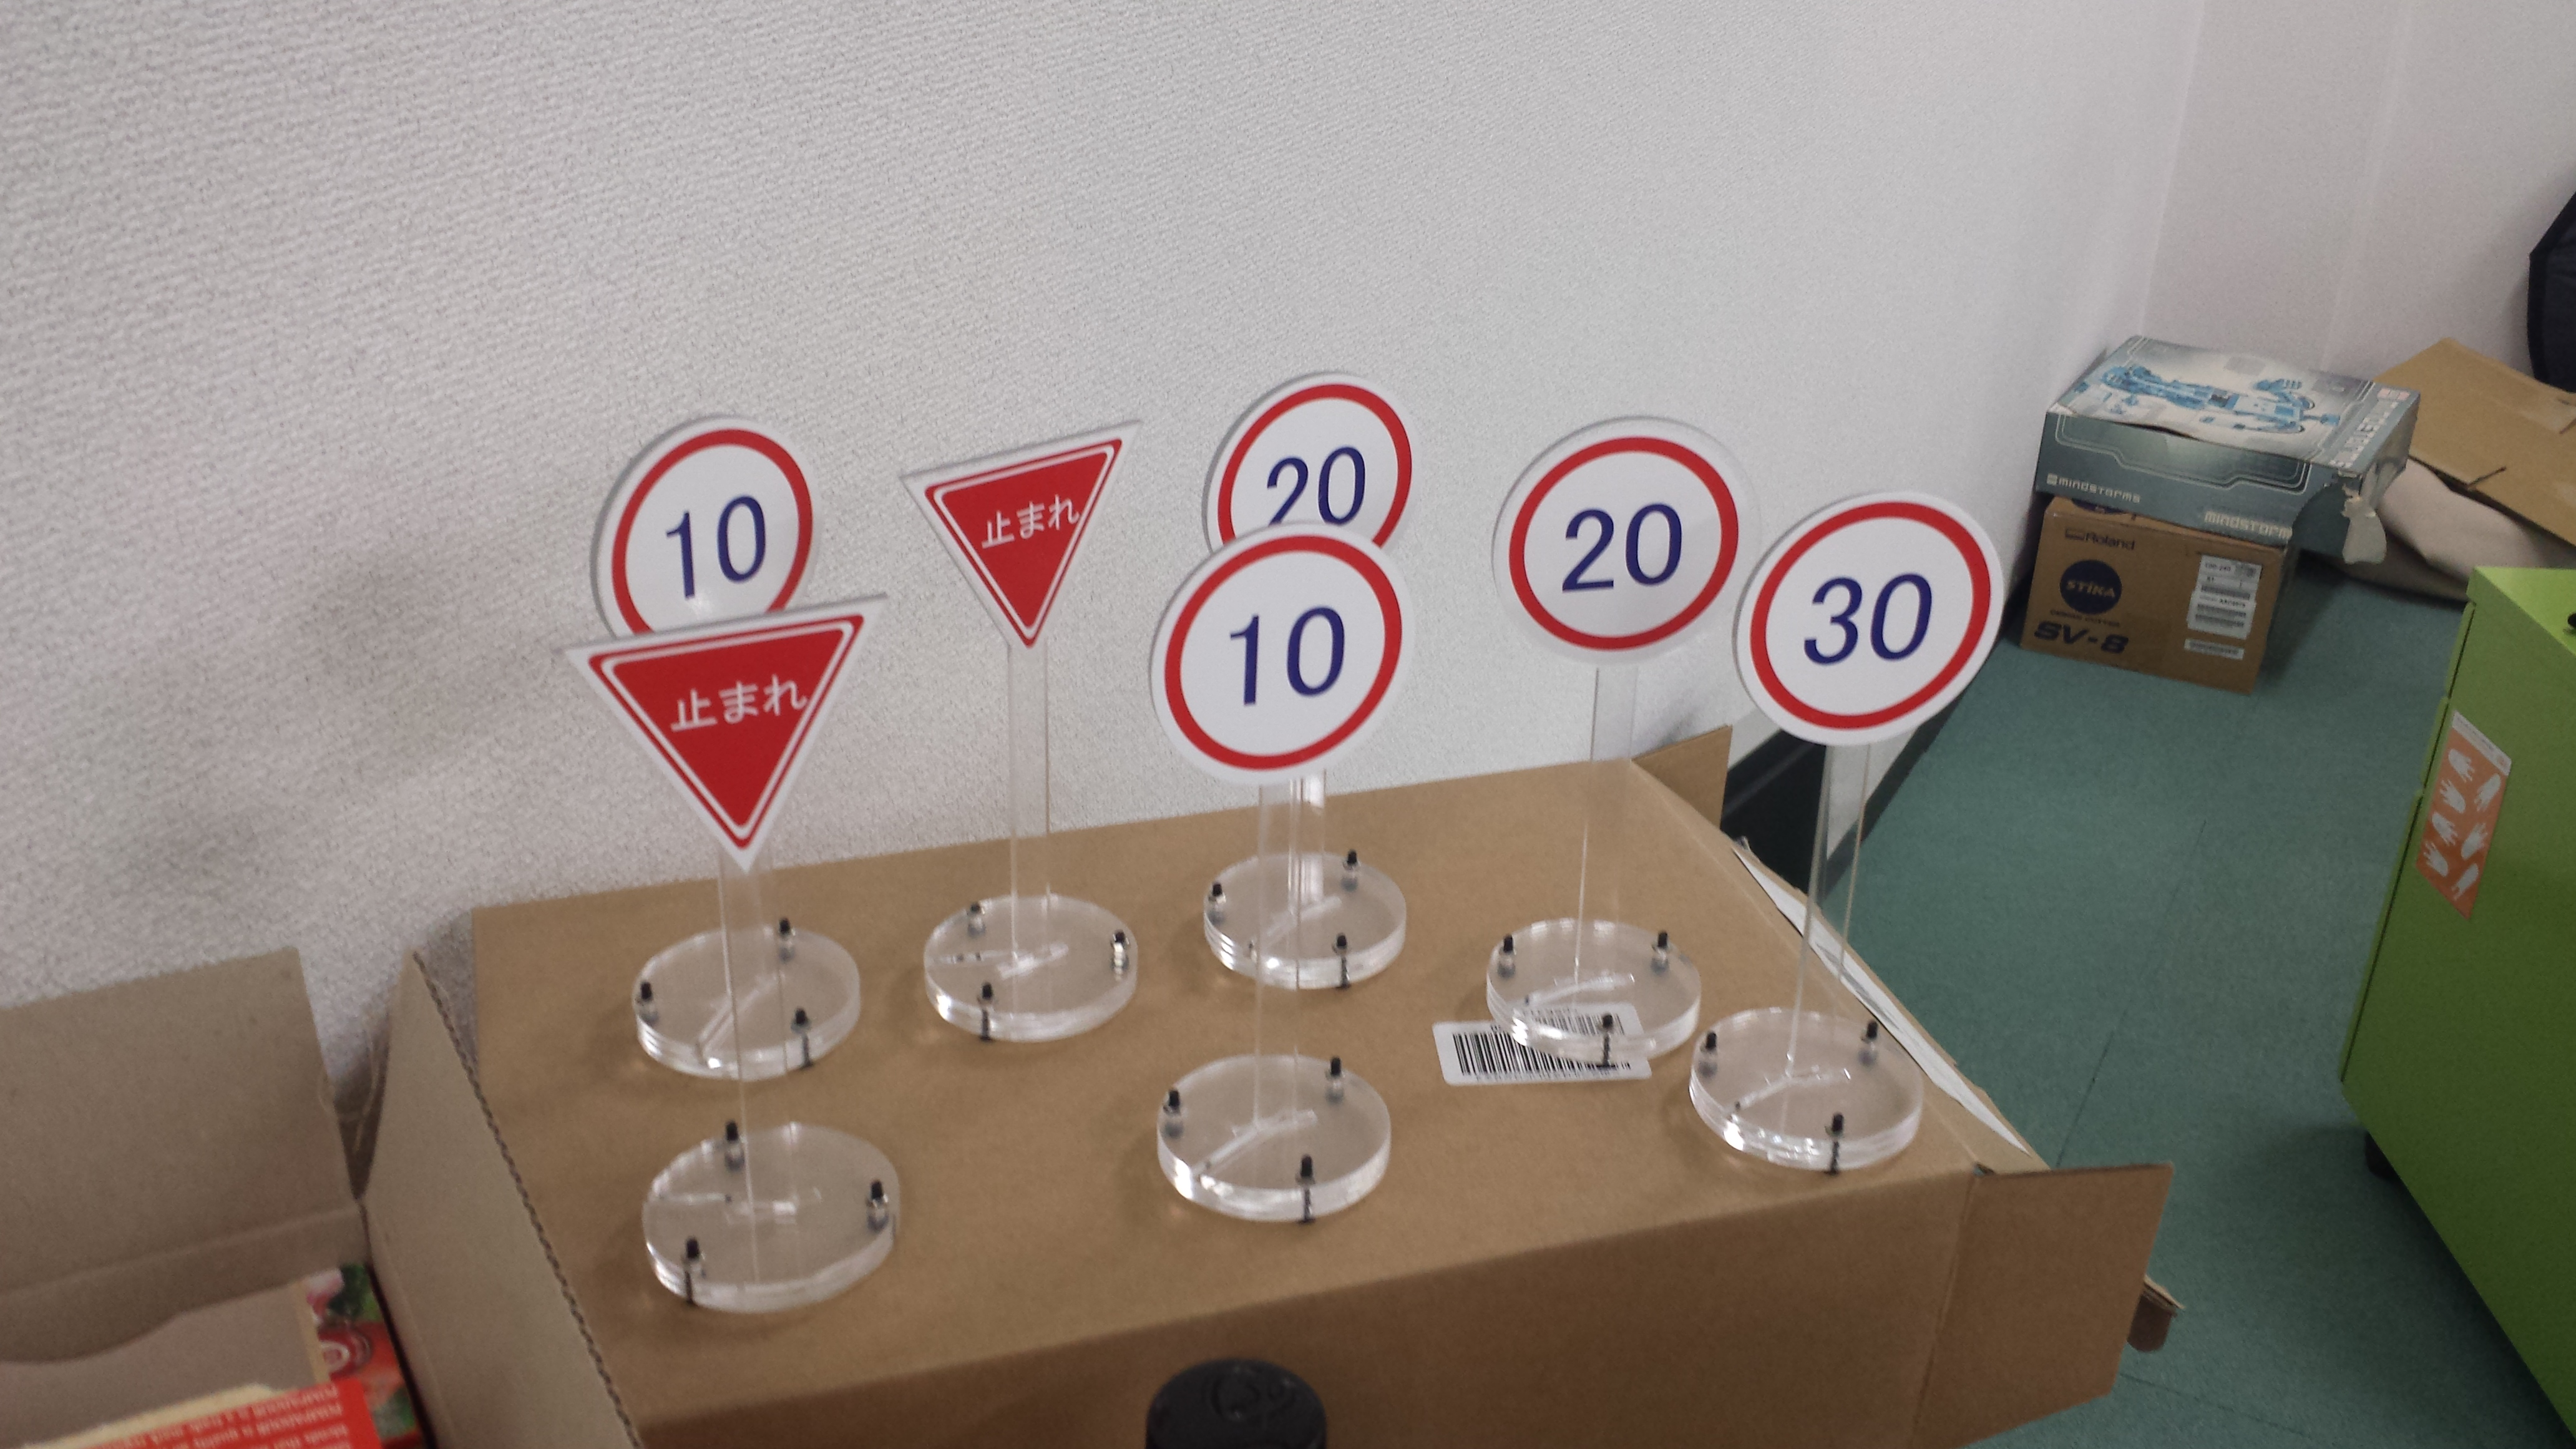speed_10: (1150, 527, 1414, 782), (591, 416, 817, 642)
speed_20: (1491, 421, 1748, 658), (1205, 373, 1414, 548)
speed_30: (1736, 488, 2003, 743)
stop: (557, 596, 885, 872), (902, 425, 1132, 651)
